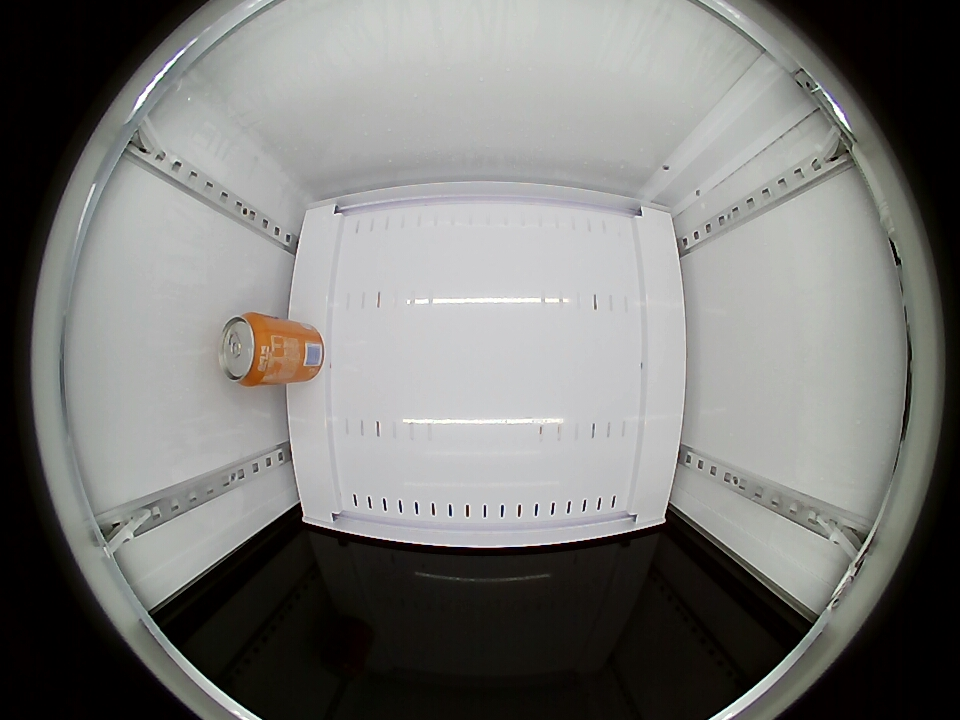fenda: (218, 313, 275, 387)
